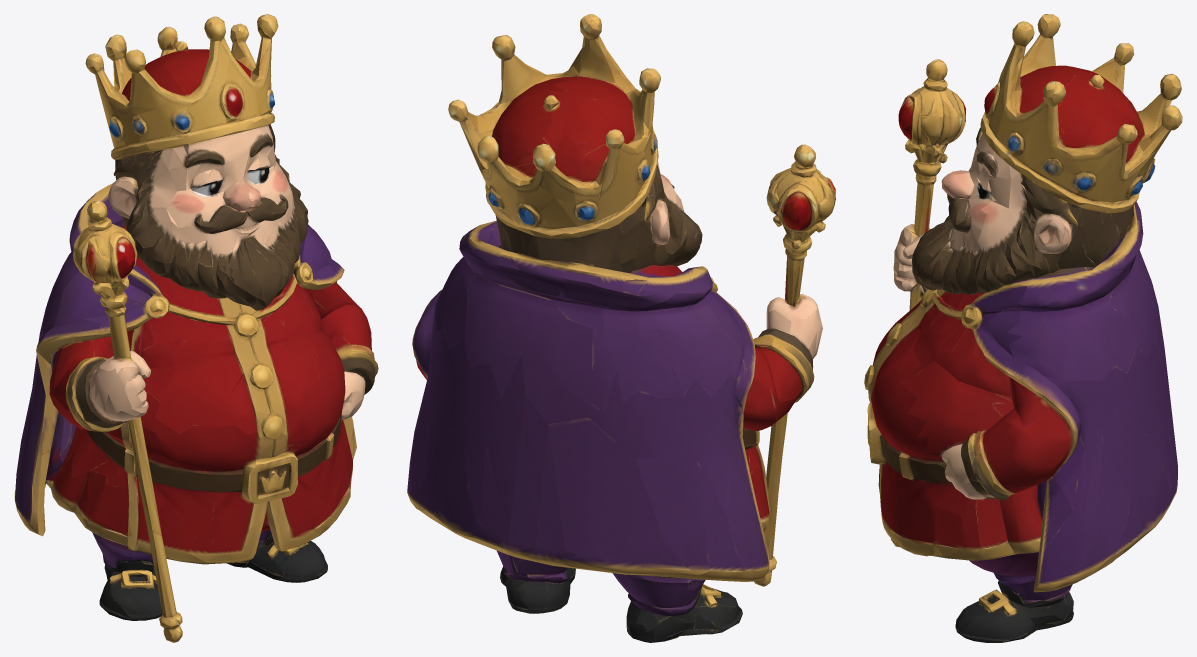
Rendered from king_red_fat.glb.
3 renders of one model, left to right at view 1: azimuth 30°, elevation 25°; view 2: azimuth 150°, elevation 25°; view 3: azimuth 270°, elevation 25°, orthographic. The views are drawn at different scales.
Visible parts, largest first — view 1: output_unwrapped; view 2: output_unwrapped; view 3: output_unwrapped.
Boxes of the visible parts, x1,y1,x2,y2 form: output_unwrapped: (14,14,378,642); output_unwrapped: (407,14,835,642); output_unwrapped: (864,14,1182,642).
Bounding box in the file's own units: 1.21 × 1.9 × 0.9565.
1 material, 1 textured.
